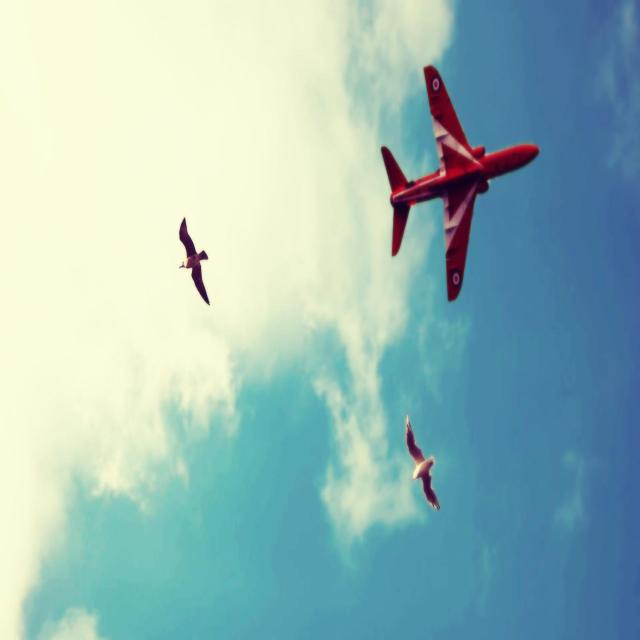airplane: (380, 64, 540, 302)
